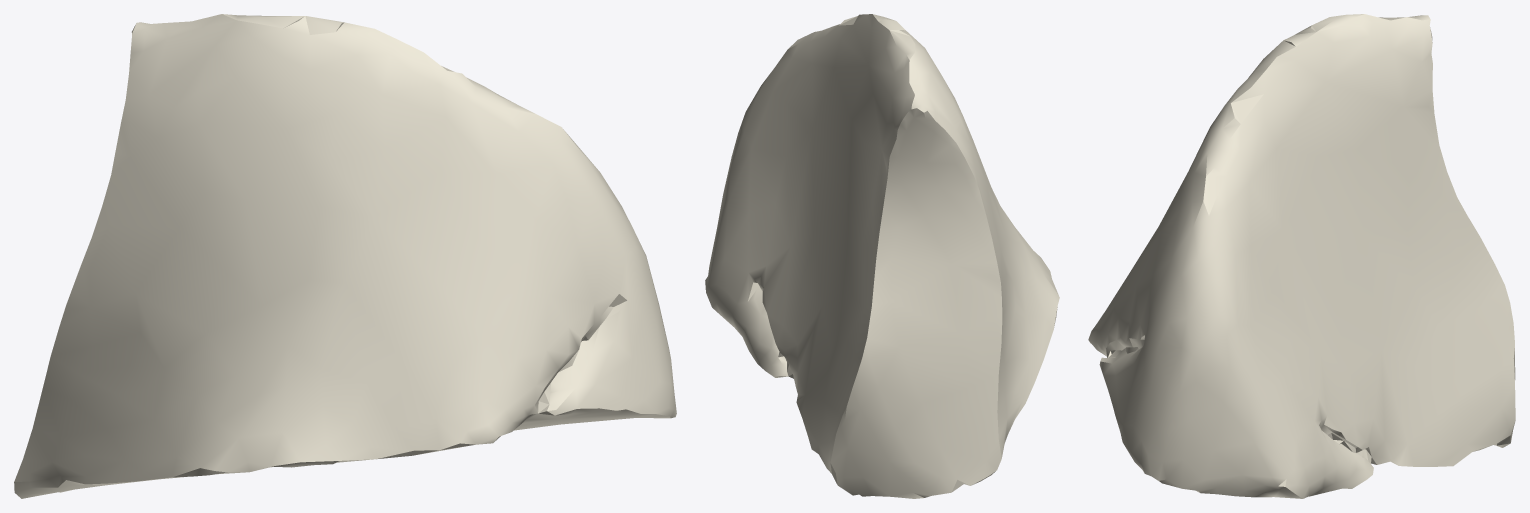
The model's file is fma16150_mm2332m.glb.
3 renders of one model, left to right at view 1: azimuth 30°, elevation 25°; view 2: azimuth 150°, elevation 25°; view 3: azimuth 270°, elevation 25°, orthographic. The views are drawn at different scales.
Parts seen in each view (by area): view 1: FMA16150_MM2332M; view 2: FMA16150_MM2332M; view 3: FMA16150_MM2332M.
Boxes of the visible parts, <box> form: FMA16150_MM2332M: <box>14,14,676,498</box>; FMA16150_MM2332M: <box>705,14,1059,498</box>; FMA16150_MM2332M: <box>1088,14,1515,498</box>.
Bounding box in the file's own units: 0.0141 × 0.0141 × 0.0123.
